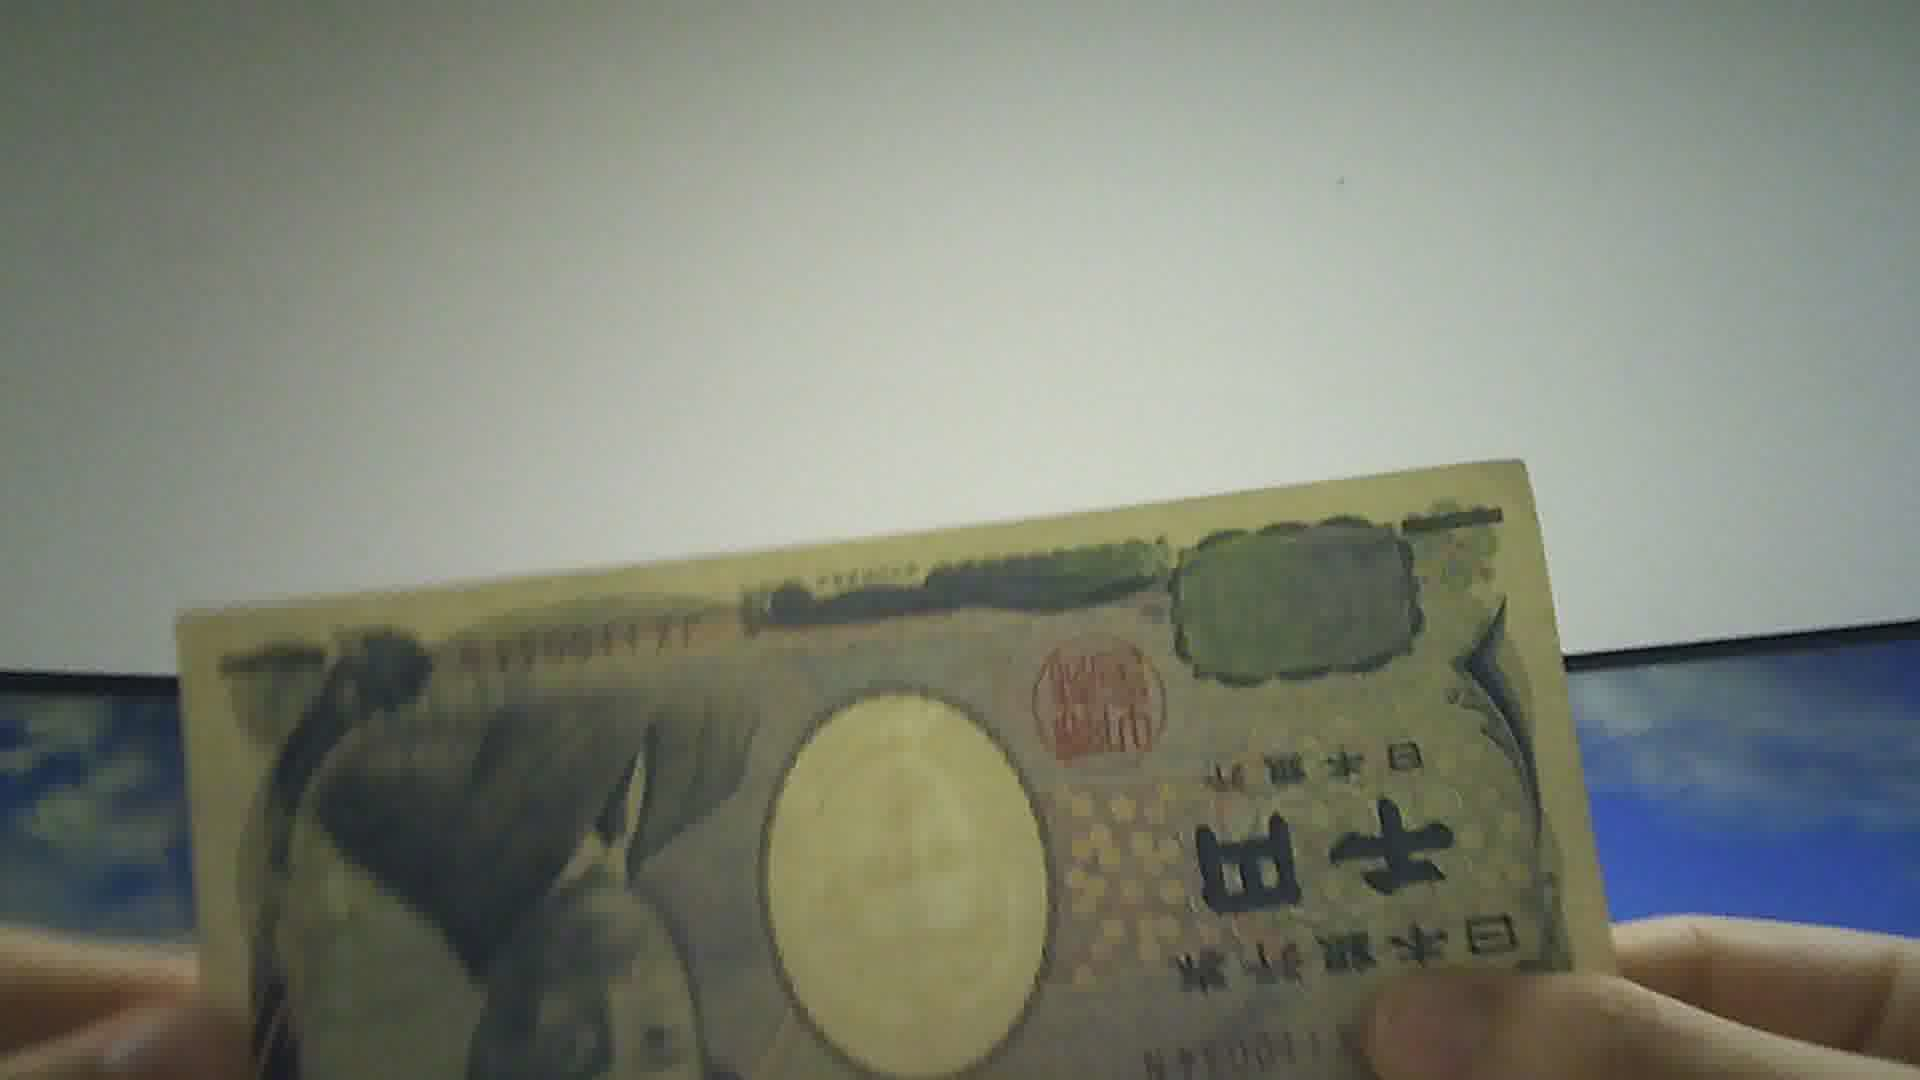1,000 Yen: (167, 462, 1631, 1079)
